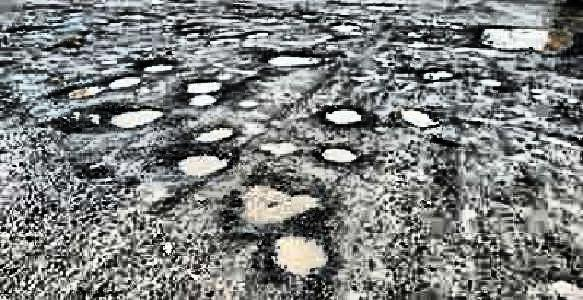pothole: (235, 180, 326, 223), (478, 23, 573, 52), (270, 232, 332, 274), (170, 149, 232, 177), (108, 103, 164, 127), (264, 50, 328, 67), (49, 81, 106, 100), (191, 123, 236, 143), (399, 106, 436, 128), (323, 105, 363, 124), (319, 146, 360, 162), (258, 139, 298, 155), (138, 56, 176, 72), (108, 72, 141, 88), (183, 79, 223, 92), (420, 67, 454, 80), (185, 93, 217, 106), (207, 34, 239, 46), (244, 29, 271, 41), (331, 23, 361, 32), (183, 29, 203, 39)
